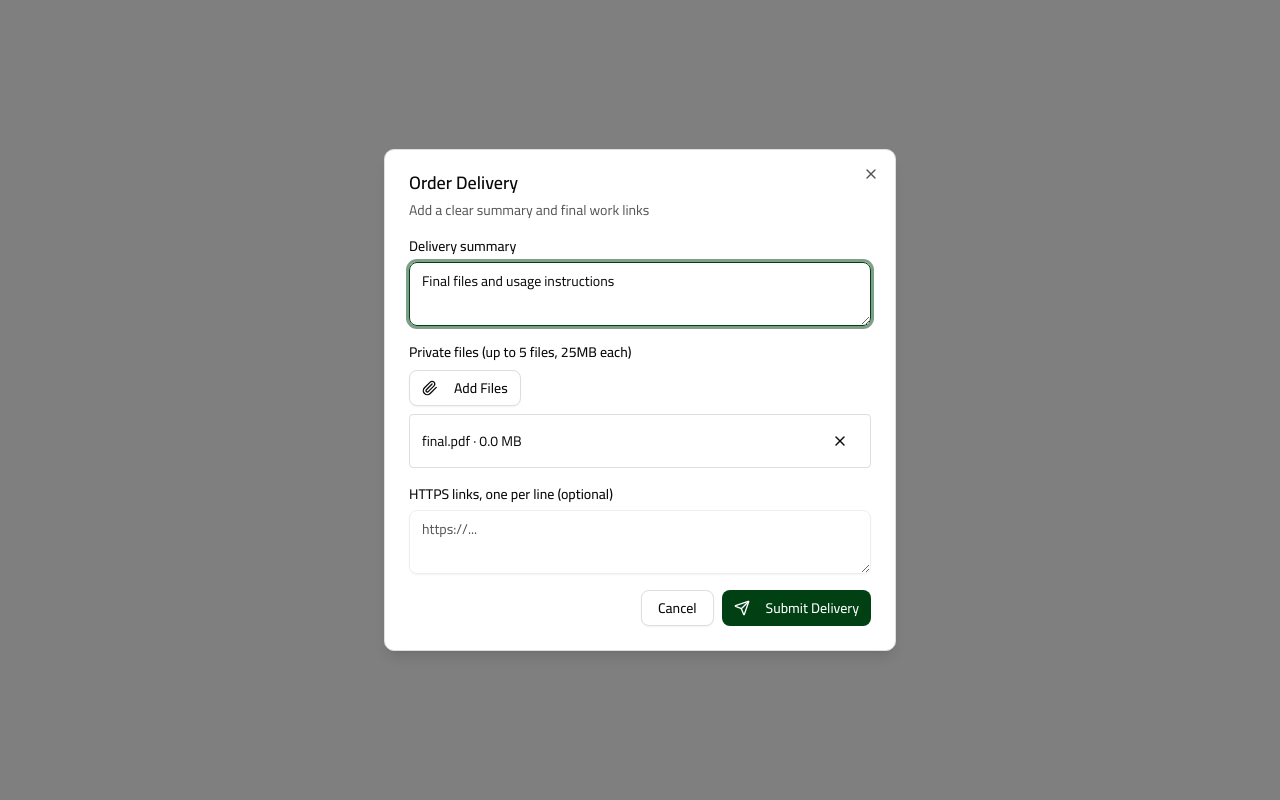
Test case: order delivery dialog › recovers an accepted request after an unknown client result without uploading twice
Earlier steps of the test are not shown.
Later steps or results of the test are not shown.
What coordinates should you click on to do the following:
click the button "Submit Delivery"
I would click on:
 (796, 608)
Its box is [722,590,871,626].
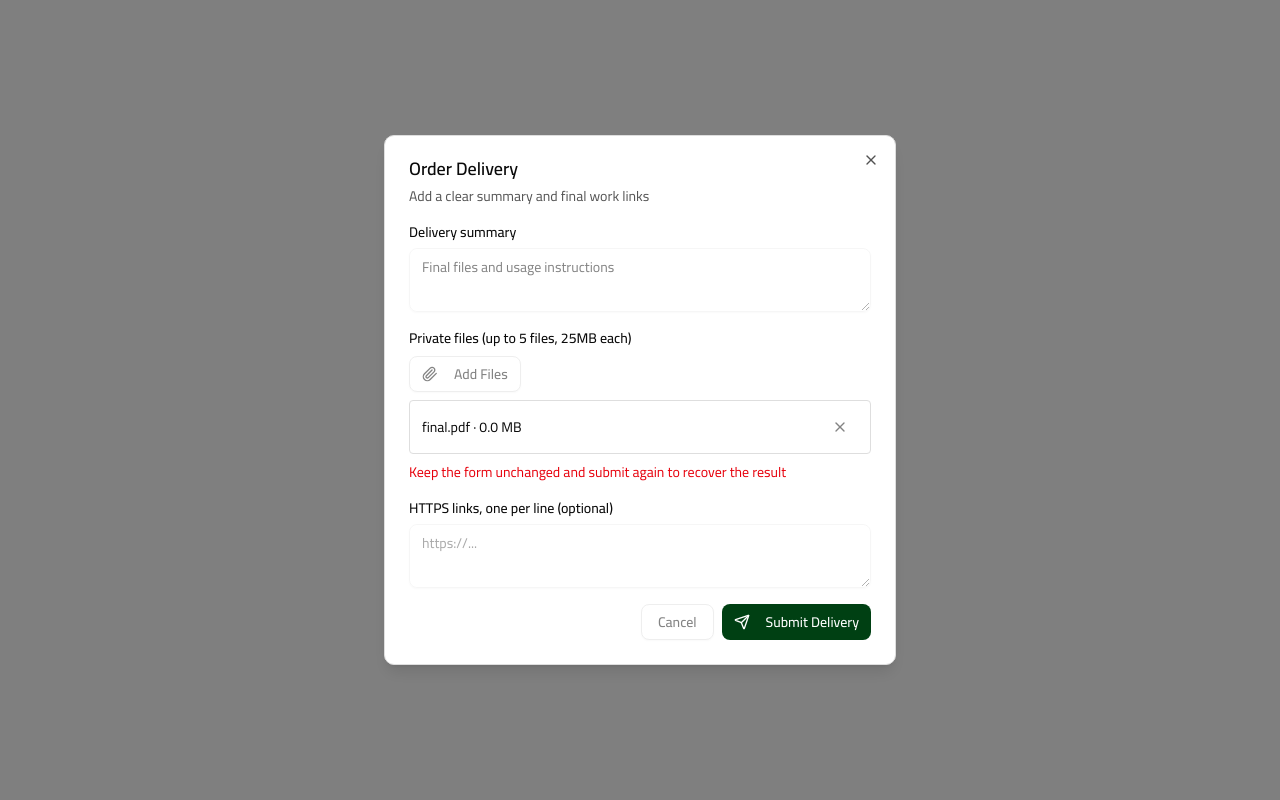
Expected: the message shows "Keep the form unchanged", [409,459,786,485]
